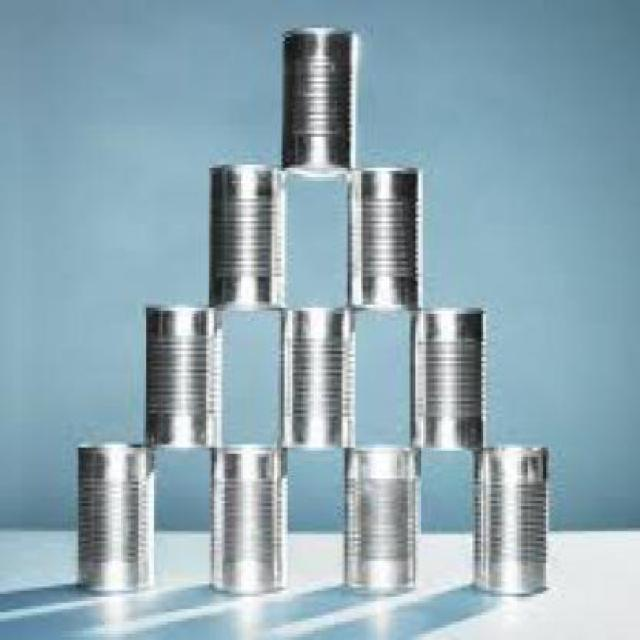METAL: (73, 441, 152, 590), (470, 444, 548, 593), (279, 24, 353, 174), (342, 441, 416, 590), (277, 304, 352, 450), (207, 444, 282, 590), (344, 162, 418, 308), (206, 162, 280, 308), (143, 302, 217, 448), (405, 308, 481, 450)
